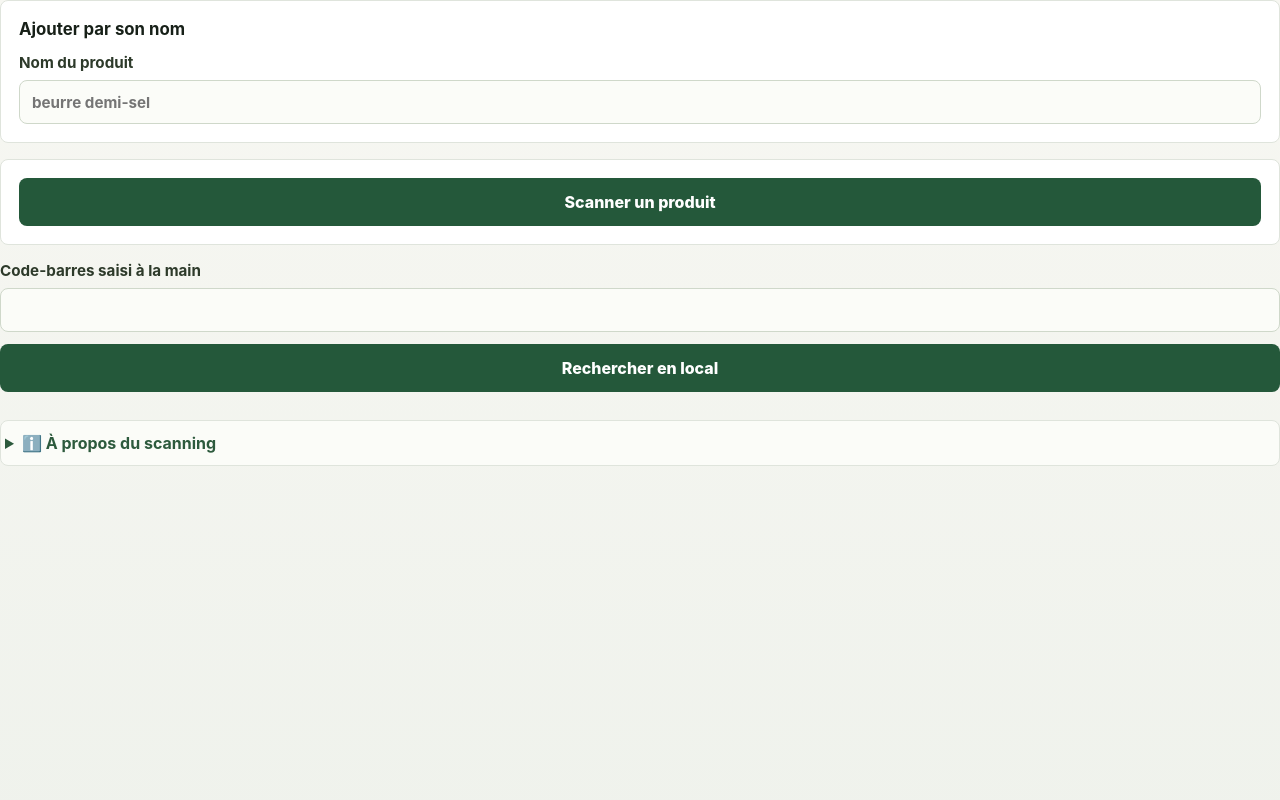
Test: ScanPage — ajout par le nom du produit › offre la création à la main en dernier recours, et l ajoute à la liste
Type "pommes en vrac" into the search field labelled "Nom du produit" at (640, 102), box x1=19 y1=80 x2=1261 y2=124
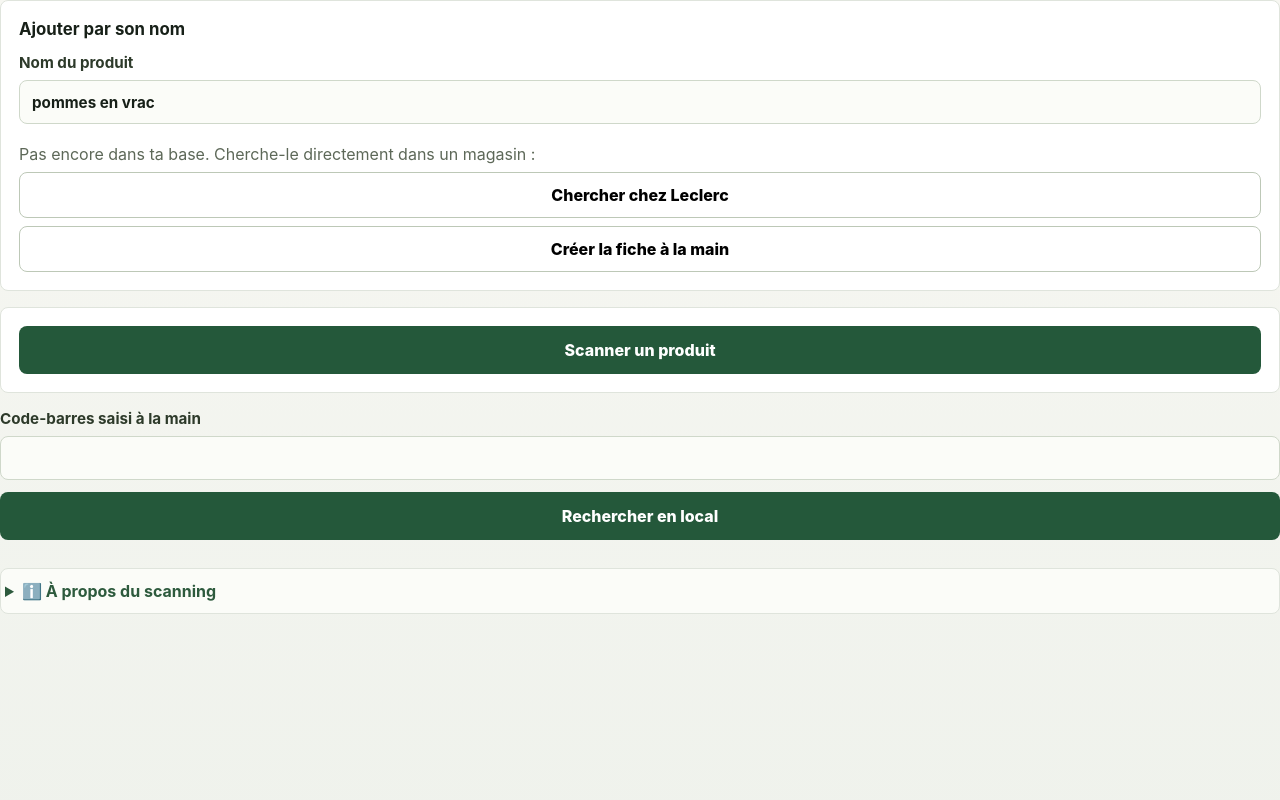
Click the button "Créer la fiche à la main" at (640, 249), box x1=19 y1=226 x2=1261 y2=272
(page scrolled)
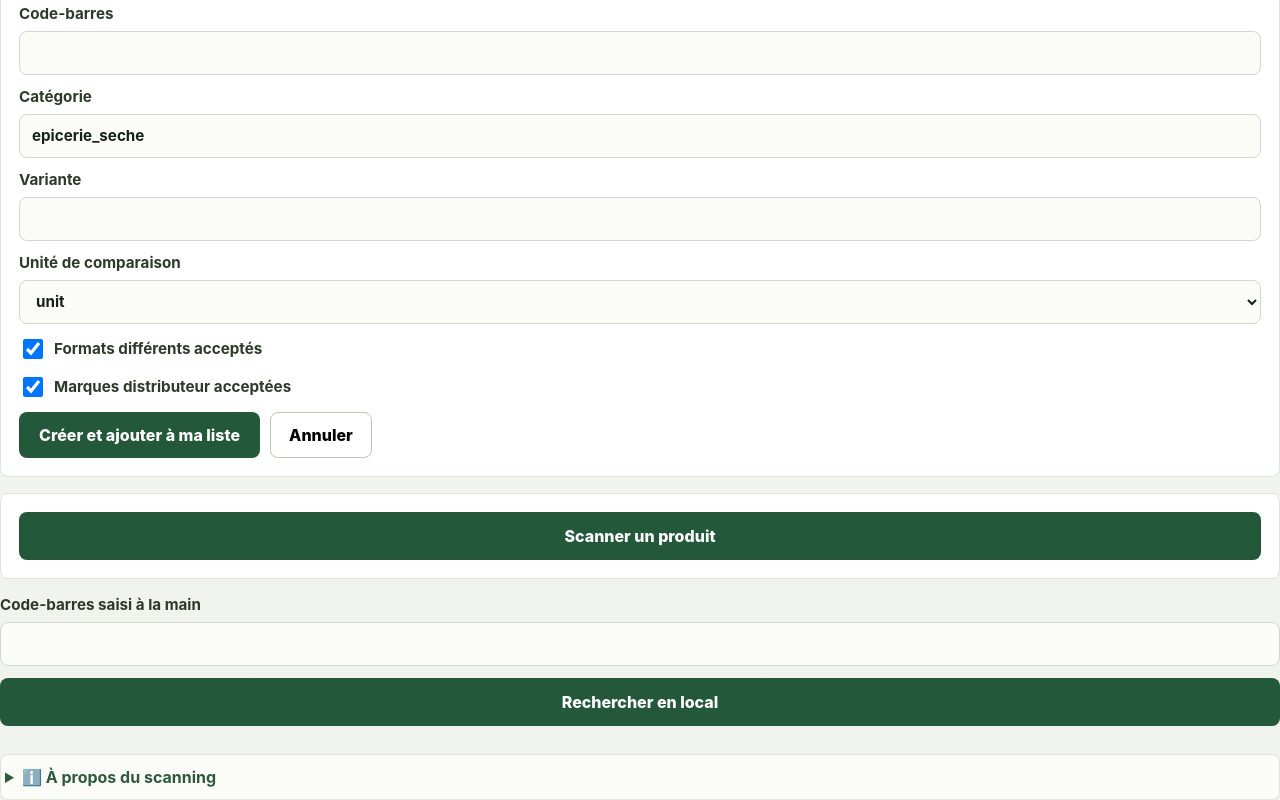
Click the button "Créer et ajouter à ma liste" at (140, 434), box x1=19 y1=412 x2=260 y2=458
(page scrolled)
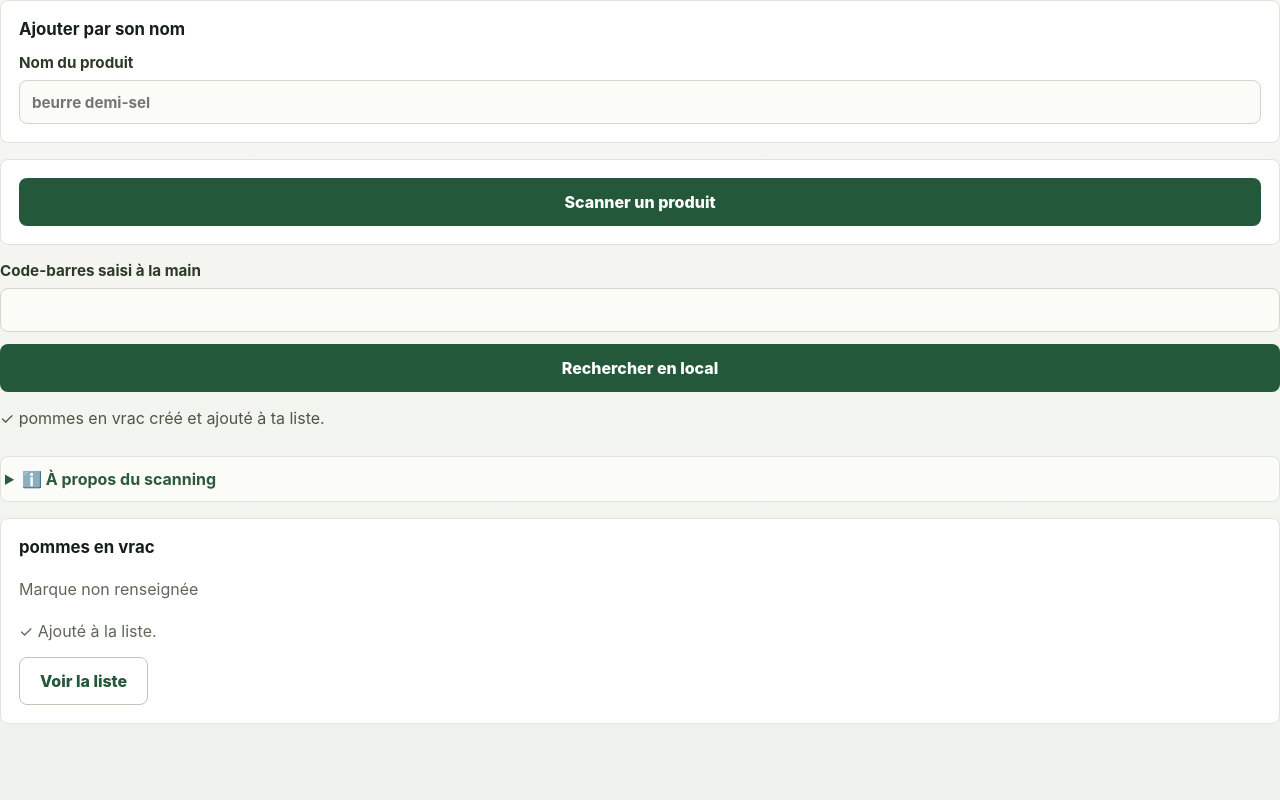
Check: the text "✓ pommes en vrac créé et ajouté à ta liste." is shown, box x1=0 y1=408 x2=325 y2=428
